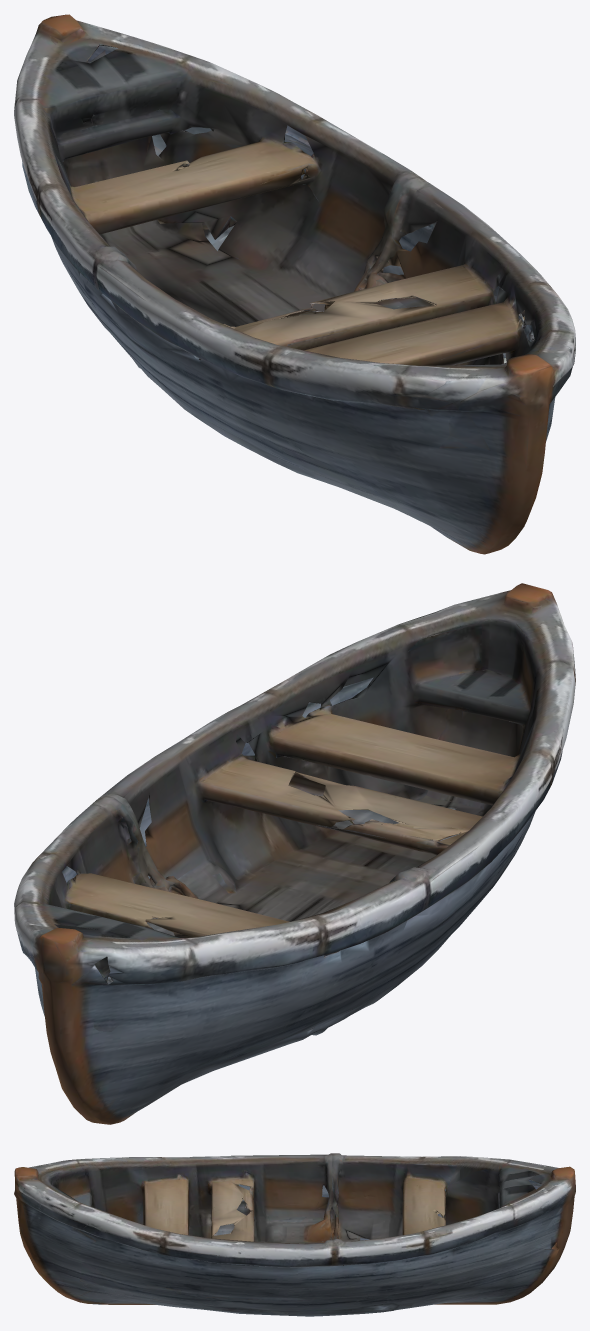
Rendered from rowboat.glb.
3 views of the same model, one above another, from view 1: azimuth 30°, elevation 25°; view 2: azimuth 150°, elevation 25°; view 3: azimuth 270°, elevation 25° (orthographic). The views are drawn at different scales.
Parts seen in each view (by area): view 1: Mesh1.0; view 2: Mesh1.0; view 3: Mesh1.0.
Boxes of the visible parts, x1,y1,x2,y2 form: Mesh1.0: [14, 14, 575, 554]; Mesh1.0: [14, 583, 575, 1124]; Mesh1.0: [14, 1153, 575, 1316].
Bounding box in the file's own units: 0.8077 × 0.5204 × 2.
Materials: 1 (1 with a texture image).
